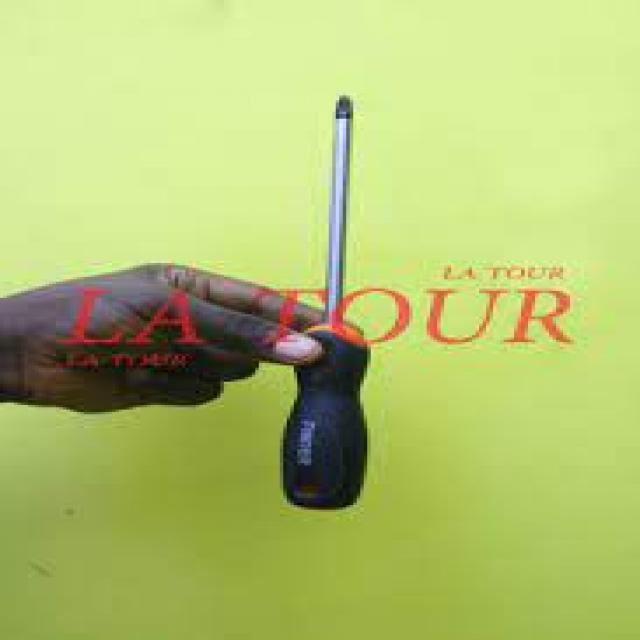screwdriver: (278, 97, 369, 516)
